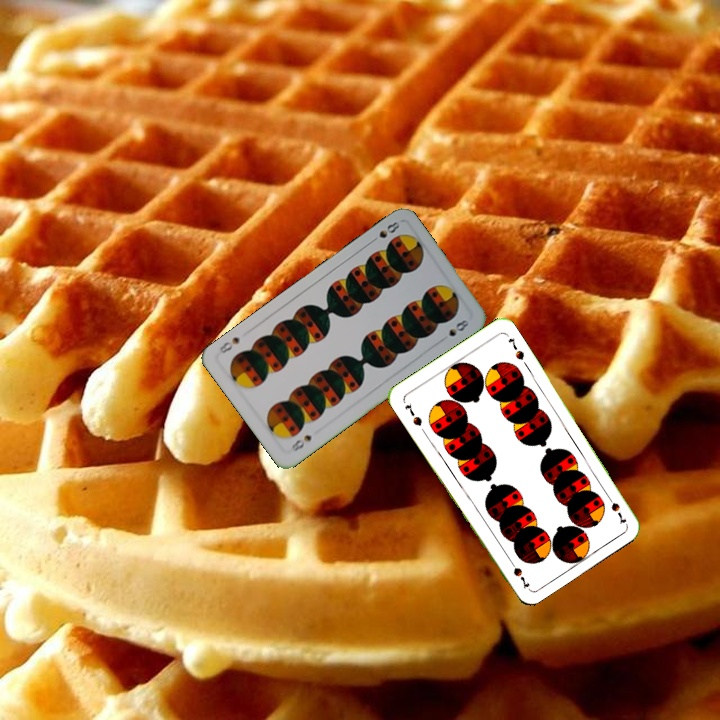S7: (602, 490, 629, 526), (401, 399, 425, 429)
S8: (366, 217, 402, 246), (287, 431, 314, 454)
